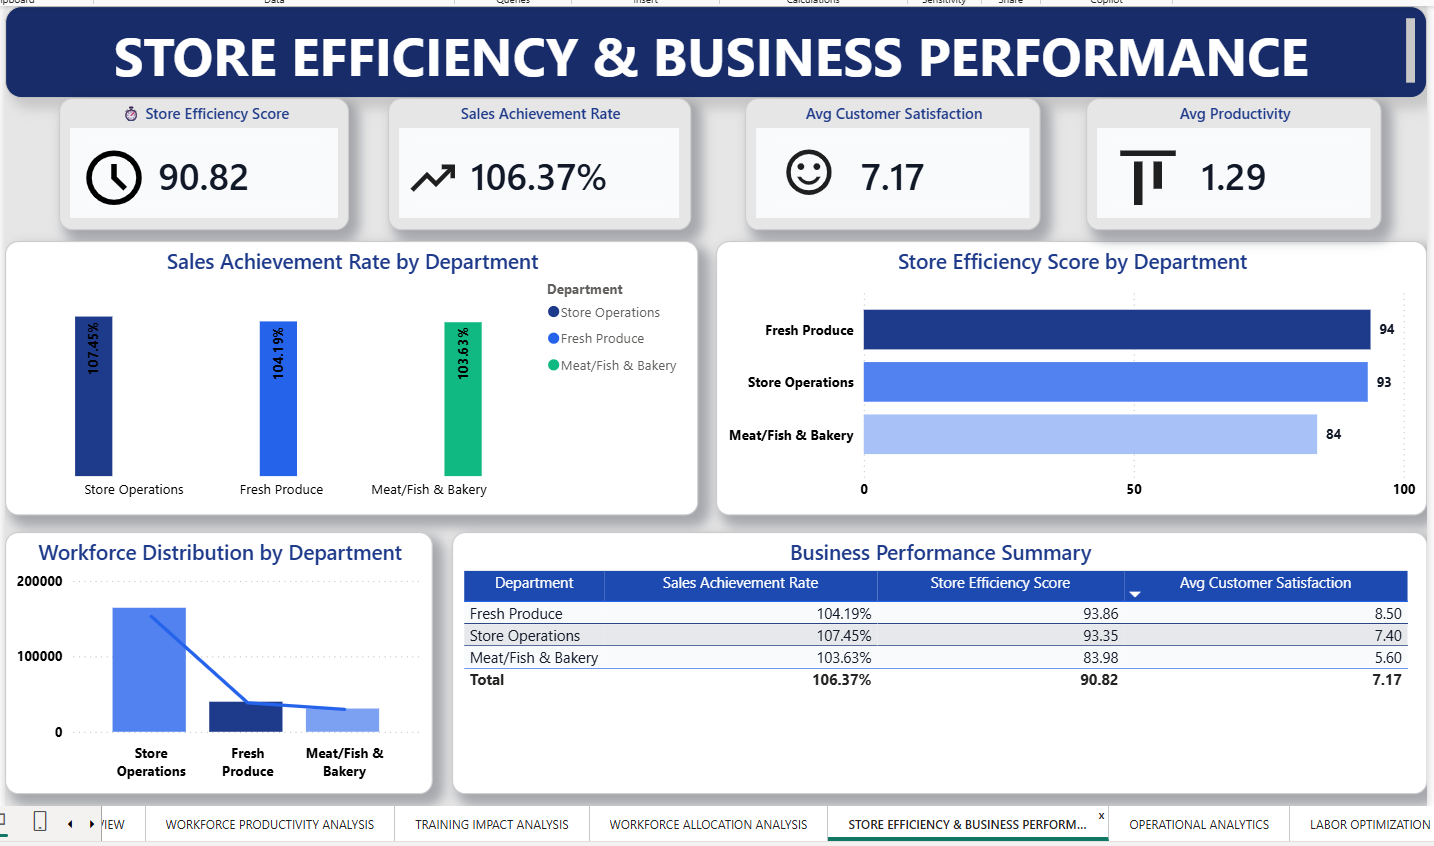

Layout of this report page (visuals, bound fields, positions):
{"tool":"powerbi","page":{"name":"STORE EFFICIENCY & BUSINESS PERFORMANCE","canvas":[1280,720],"ordinal":4},"visuals":[{"type":"textbox","box":[0,0,1279.8,82.8],"z":0},{"type":"cardVisual","title":"⏱️ Store Efficiency Score","fields":{"Data":["Dim_Business_Outcomes.Store Efficiency Score"]},"box":[48.6,82.8,261,118.8],"z":1000},{"type":"cardVisual","title":"Sales Achievement Rate","fields":{"Data":["Dim_Business_Outcomes.Sales Achievement Rate"]},"box":[344.7,82.8,272.7,118.8],"z":2000},{"type":"cardVisual","title":"Avg Customer Satisfaction","fields":{"Data":["Dim_Business_Outcomes.Avg Customer Satisfaction"]},"box":[666,82.8,266.4,118.8],"z":3000},{"type":"clusteredColumnChart","title":"Sales Achievement Rate by Department","fields":{"Y":["Dim_Business_Outcomes.Sales Achievement Rate"],"Category":["Dim_Business_Outcomes.Department"],"Series":["Dim_Business_Outcomes.Department"]},"box":[0,211.5,623.7,246.6],"z":4000},{"type":"barChart","title":"Store Efficiency Score by Department","fields":{"Y":["Dim_Business_Outcomes.Store Efficiency Score"],"Category":["Dim_Business_Outcomes.Department"]},"box":[639.9,211.5,639.9,246.6],"z":5000},{"type":"cardVisual","title":"Avg Productivity","fields":{"Data":["Dim_Date.Avg Productivity"]},"box":[972.9,82.8,266.4,118.8],"z":6000},{"type":"image","box":[62.1,125.1,72,59.4],"z":7000},{"type":"image","box":[360,130.5,50.4,48.6],"z":8000},{"type":"image","box":[693,125.1,61.2,48.6],"z":9000},{"type":"image","box":[992.7,125.1,72,59.4],"z":10000},{"type":"lineClusteredColumnComboChart","title":"Workforce Distribution by Department","fields":{"Y":["Avg(Dim_Business_Outcomes.Sales_Actual)"],"Y2":["Avg(Dim_Business_Outcomes.Sales_Target)"],"Category":["Dim_Business_Outcomes.Department"]},"box":[0,473.4,385.2,235.8],"z":11000},{"type":"tableEx","title":"Business Performance Summary","fields":{"Values":["Dim_Business_Outcomes.Department","Dim_Business_Outcomes.Sales Achievement Rate","Dim_Business_Outcomes.Store Efficiency Score","Dim_Store.Store_Name","Dim_Business_Outcomes.Avg Customer Satisfaction"]},"box":[402.3,473.4,412.2,235.8],"z":12000},{"type":"clusteredBarChart","title":"Store Efficiency Score by Store Name","fields":{"Category":["Dim_Store.Store_Type"],"Y":["CountNonNull(Dim_Store.Store_Name)"]},"box":[824.4,473.4,455.4,235.8],"z":13000}]}

Visuals, with their boxes on the page's 1280x720 design canvas (x1, y1, x2, y2). These are canvas units, not pixel positions in the 1434x846 screenshot, which may show the page scaled, cropped or inside an application window:
textbox: x1=0 y1=0 x2=1280 y2=83
"⏱️ Store Efficiency Score" cardVisual: x1=49 y1=83 x2=310 y2=202
"Sales Achievement Rate" cardVisual: x1=345 y1=83 x2=617 y2=202
"Avg Customer Satisfaction" cardVisual: x1=666 y1=83 x2=932 y2=202
"Sales Achievement Rate by Department" clusteredColumnChart: x1=0 y1=212 x2=624 y2=458
"Store Efficiency Score by Department" barChart: x1=640 y1=212 x2=1280 y2=458
"Avg Productivity" cardVisual: x1=973 y1=83 x2=1239 y2=202
image: x1=62 y1=125 x2=134 y2=184
image: x1=360 y1=130 x2=410 y2=179
image: x1=693 y1=125 x2=754 y2=174
image: x1=993 y1=125 x2=1065 y2=184
"Workforce Distribution by Department" lineClusteredColumnComboChart: x1=0 y1=473 x2=385 y2=709
"Business Performance Summary" tableEx: x1=402 y1=473 x2=814 y2=709
"Store Efficiency Score by Store Name" clusteredBarChart: x1=824 y1=473 x2=1280 y2=709
